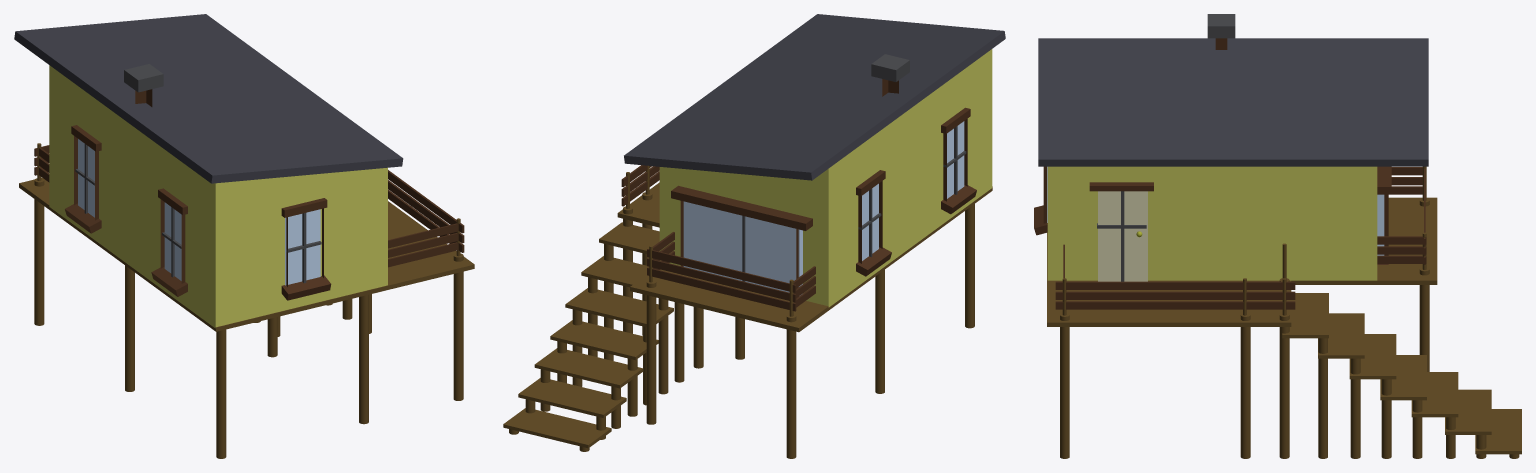
File: House3.fbx
3 views of the same model, side by side, from view 1: azimuth 30°, elevation 25°; view 2: azimuth 150°, elevation 25°; view 3: azimuth 270°, elevation 25° (orthographic).
Visible parts, largest first — view 1: Cube.949; view 2: Cube.949; view 3: Cube.949.
Part boxes in pixels (x1=…): Cube.949: x1=14, y1=14, x2=474, y2=458; Cube.949: x1=503, y1=14, x2=1005, y2=458; Cube.949: x1=1034, y1=14, x2=1521, y2=458.
Size of the model in its own units: 9324 by 10742 by 14700.
